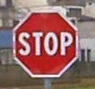stop: (12, 6, 79, 79)
